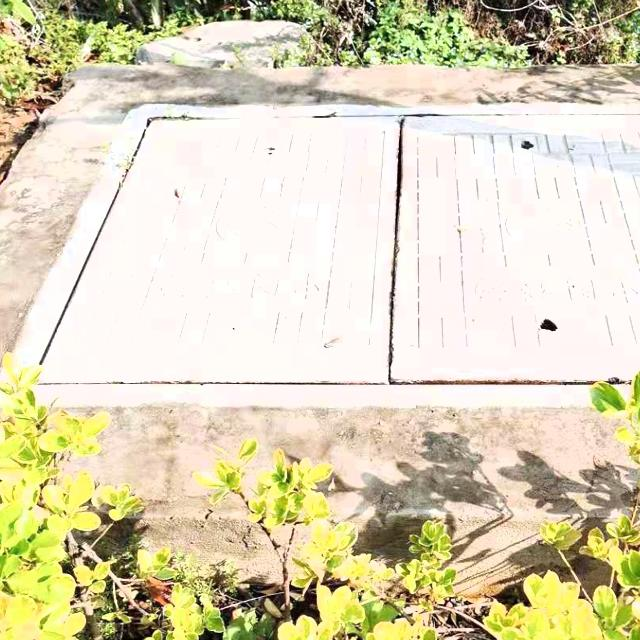good: (0, 98, 640, 412)
